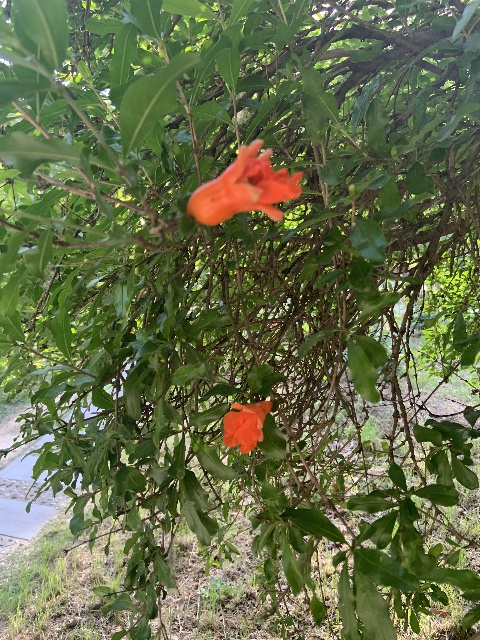flower: (186, 139, 303, 225), (222, 400, 273, 453)
